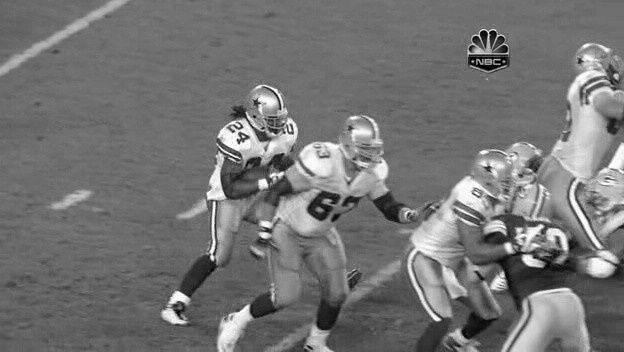person: (252, 86, 287, 131), (251, 86, 286, 131), (253, 86, 288, 131), (252, 85, 287, 130), (252, 87, 287, 132)
target_negative: (97, 104, 383, 201), (103, 298, 323, 350), (57, 311, 353, 329), (381, 284, 398, 320), (339, 322, 525, 323)
